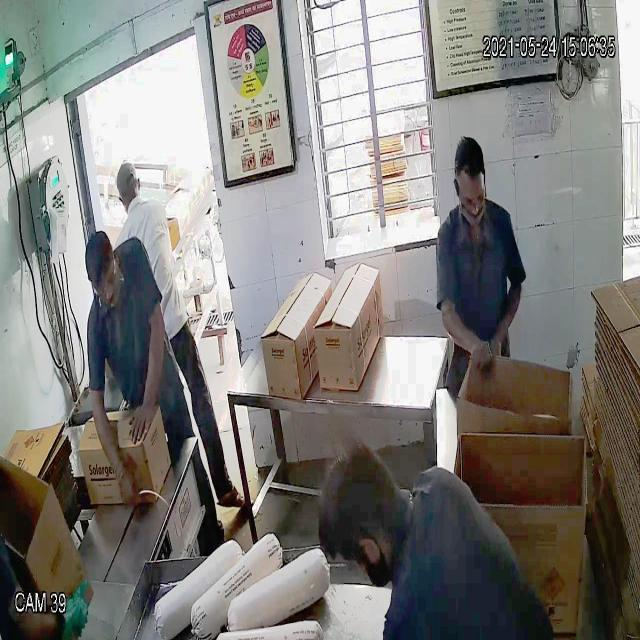glasses: (452, 181, 492, 215)
